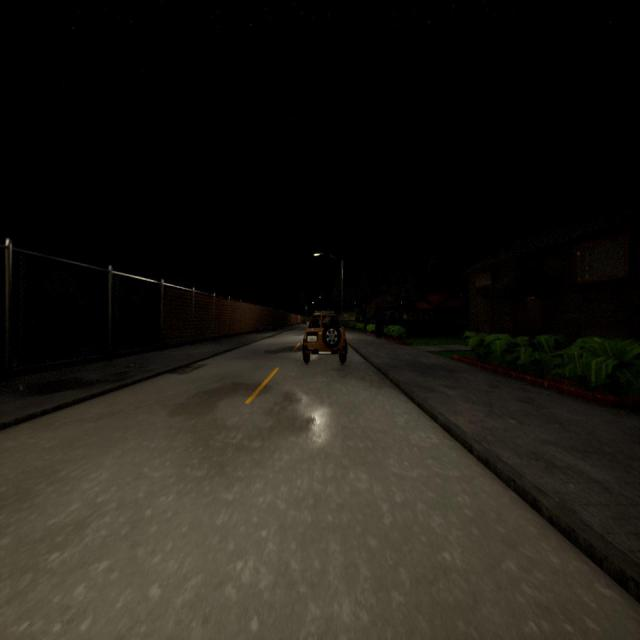Vehicle: (302, 311, 347, 364)
